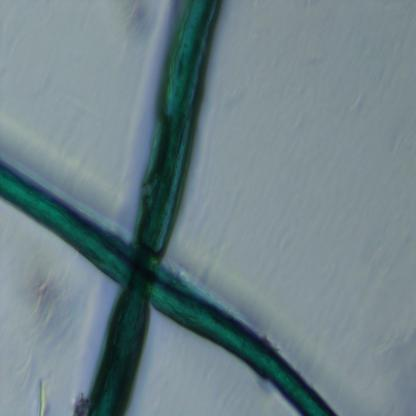Microfibre: (0, 155, 337, 414), (76, 1, 223, 413)
